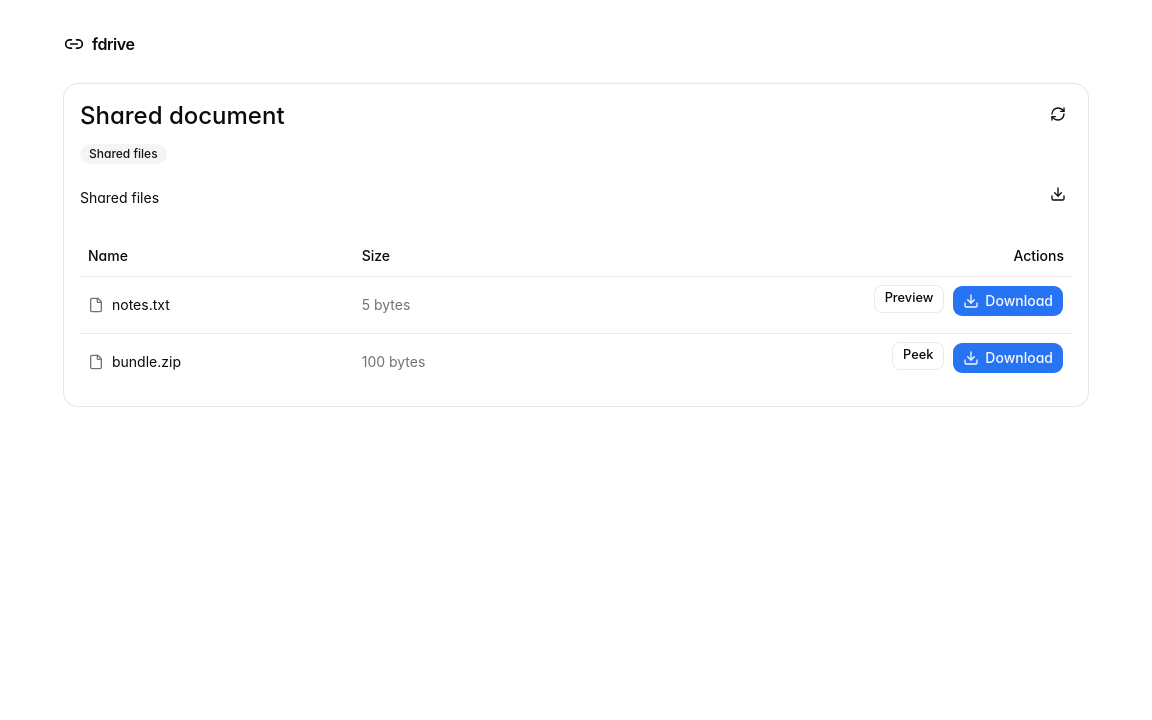
Test: a directory shows Peek beside Download only for archive rows, and peeking opens the shared entries view
Expected: the text "bundle.zip" is shown, [112,352,181,372]
Click the button "Peek" at (918, 356), box [892,342,944,370]
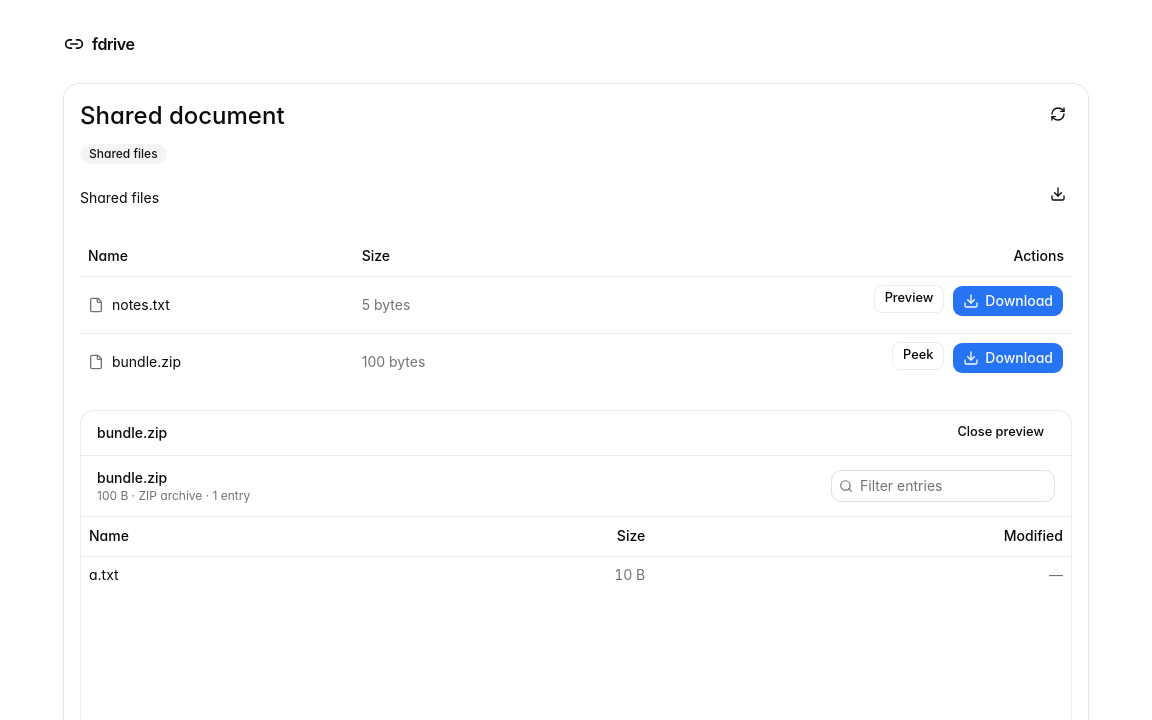
Now the text "a.txt" is shown, box [89,566,119,583]
